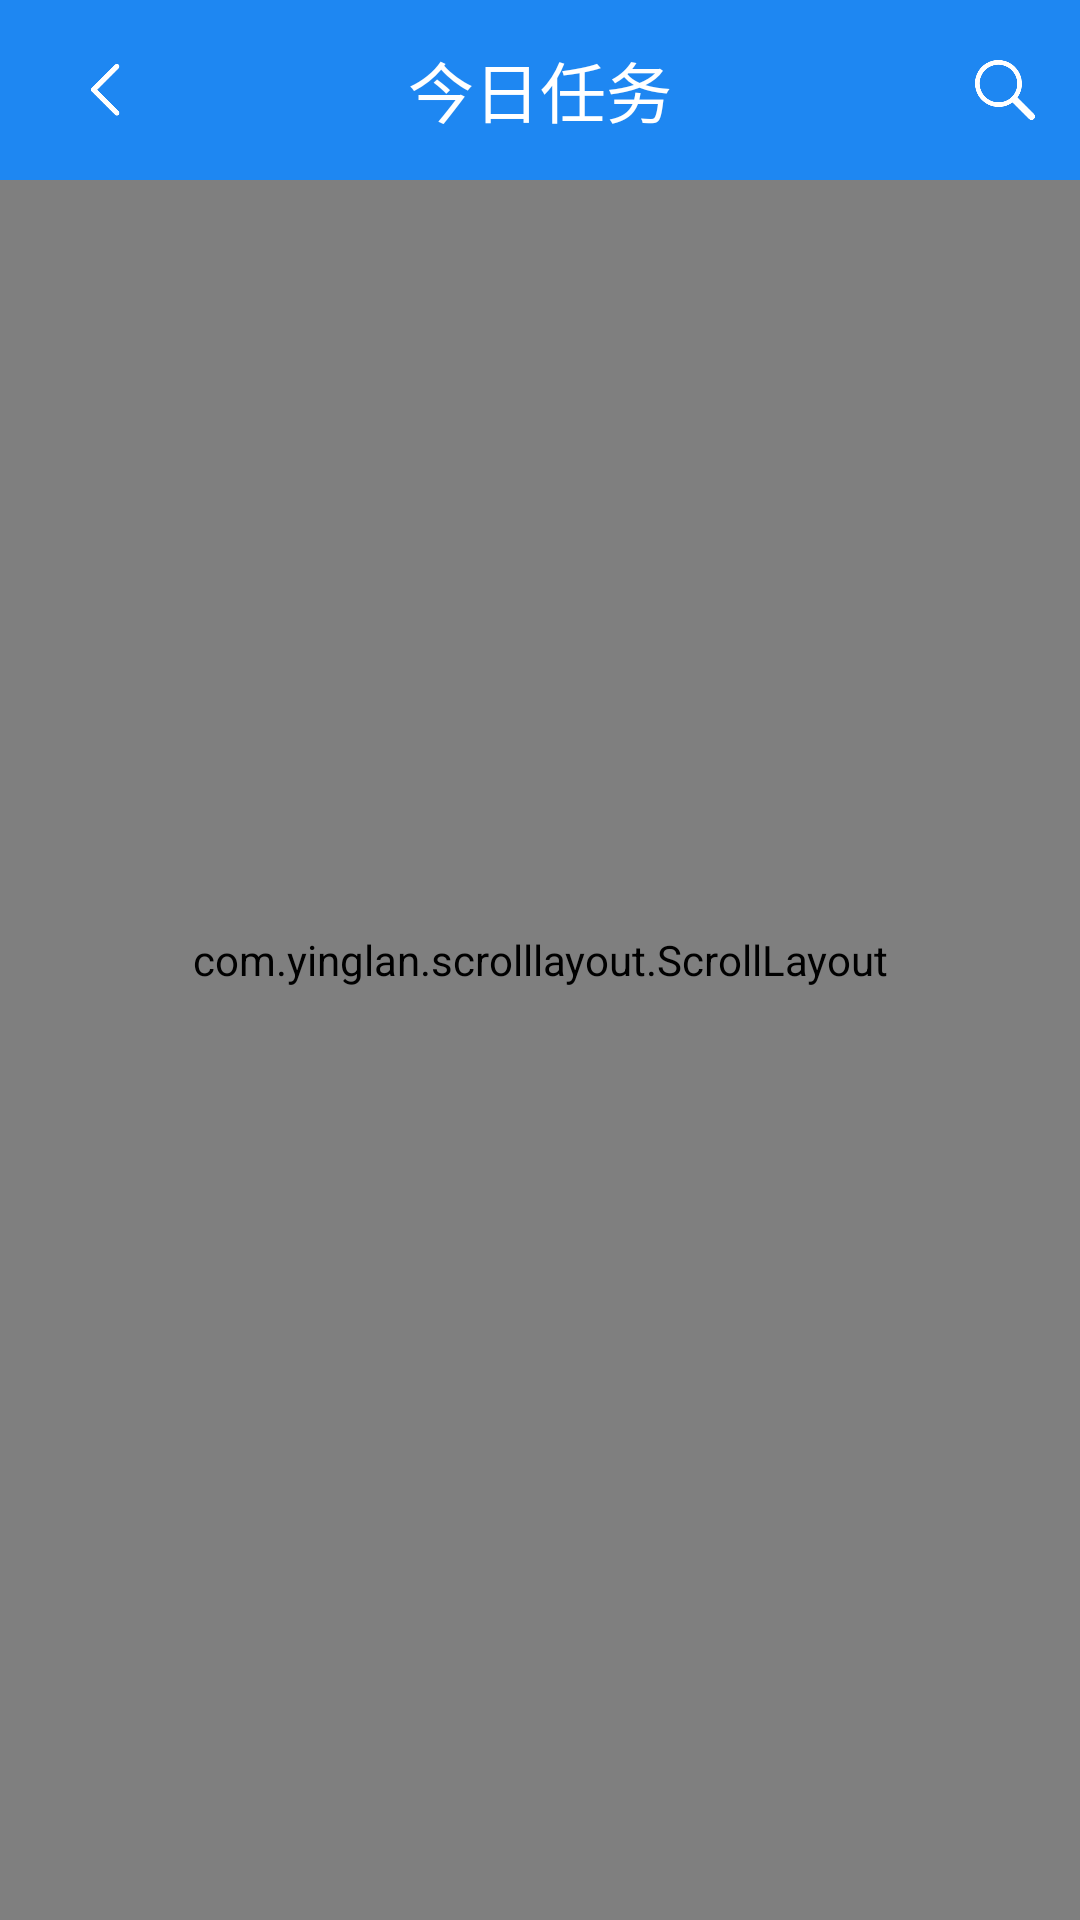

Locate icon controls on the screen. Image size 1080px×1920px, boxes as (x1, y1, x2, y2).
back: (91, 64, 120, 116)
search: (975, 60, 1035, 120)
